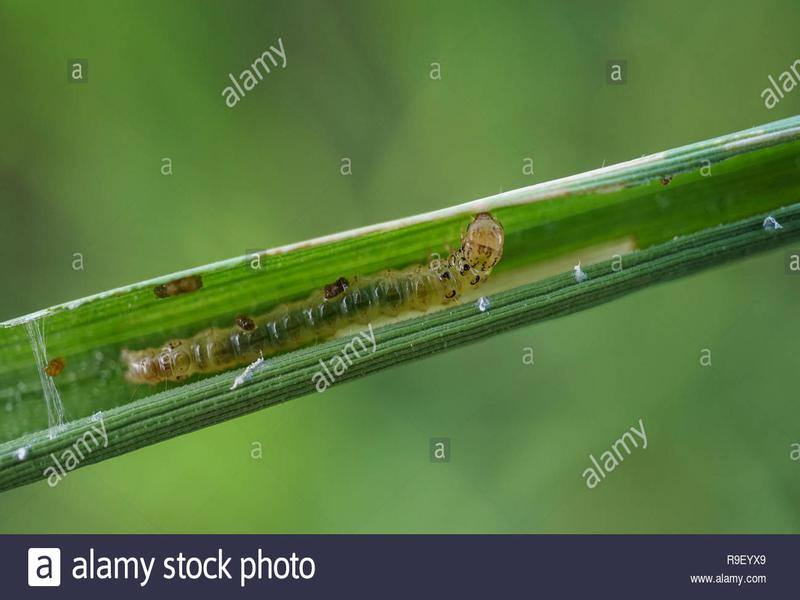Rice_earhead_bug: (85, 204, 516, 406)
